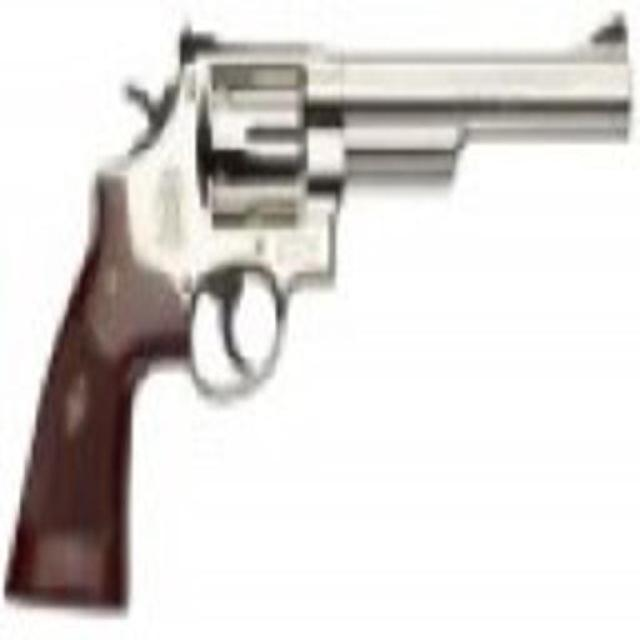pistol: (4, 15, 624, 612)
